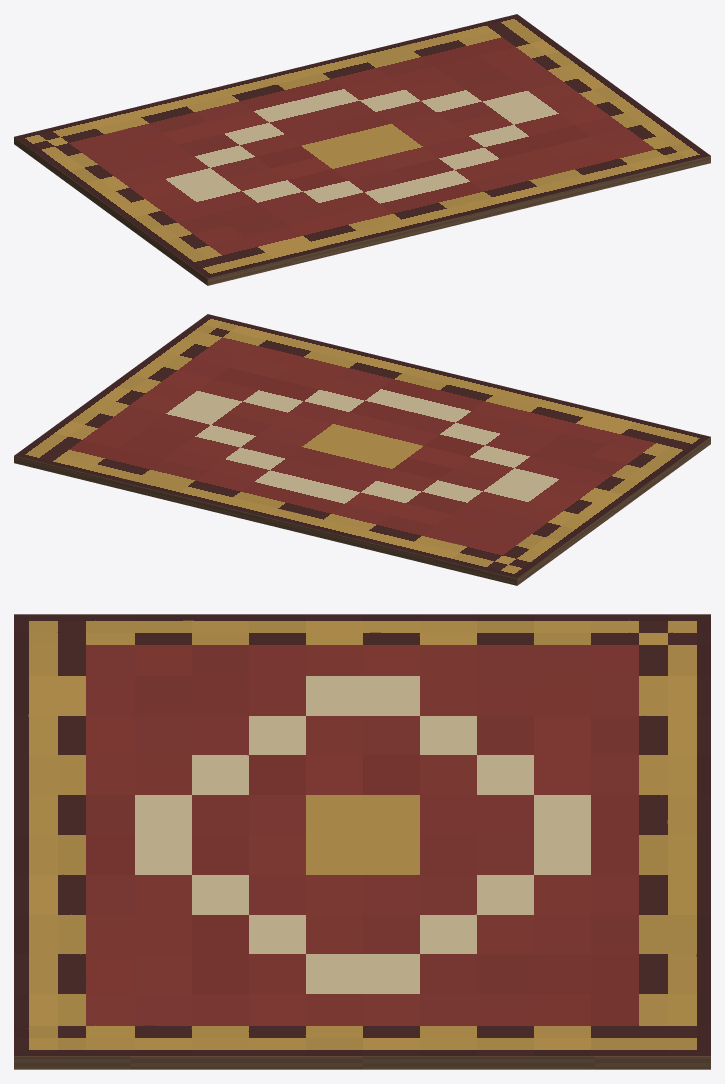
File: rug-small.glb
3 views of the same model, one above another, from view 1: azimuth 30°, elevation 25°; view 2: azimuth 150°, elevation 25°; view 3: azimuth 270°, elevation 25° (orthographic). The views are drawn at different scales.
Visible parts, largest first — view 1: rug-small.001; view 2: rug-small.001; view 3: rug-small.001.
Part boxes in pixels (x1,y1,x2,y2): rug-small.001: (14, 14, 710, 285); rug-small.001: (14, 314, 710, 585); rug-small.001: (14, 614, 710, 1069).
Size of the model in its own units: 0.9 by 0.0125 by 0.6.
1 material, 1 textured.
